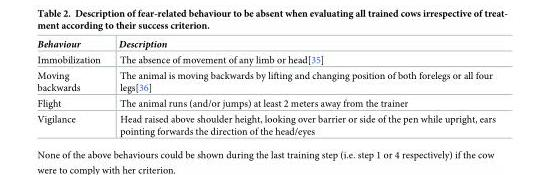table: (36, 37, 494, 136)
table column: (108, 37, 494, 136), (36, 37, 108, 136)
table column header: (36, 37, 494, 52)
table row: (36, 67, 494, 95), (36, 111, 494, 136), (36, 95, 494, 111), (36, 37, 494, 52), (36, 52, 494, 67)
